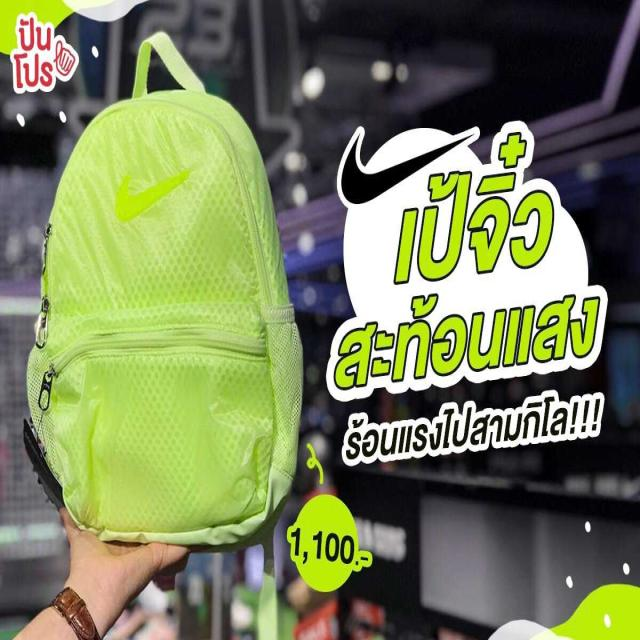Handbag: (24, 82, 302, 574)
